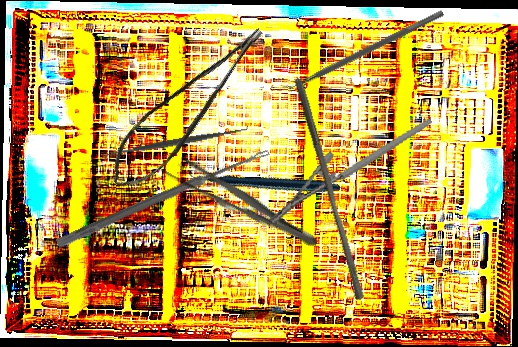Dressing Forceps: (158, 150, 324, 256)
Handpiece: (186, 105, 342, 255)
Micro Scissor: (93, 22, 289, 199)
Needle Holder: (255, 118, 447, 226)
Pusher: (284, 75, 374, 303)
Spatula Surgical: (279, 3, 445, 97), (101, 121, 251, 164)
Surgical Spoon: (55, 145, 271, 250)
